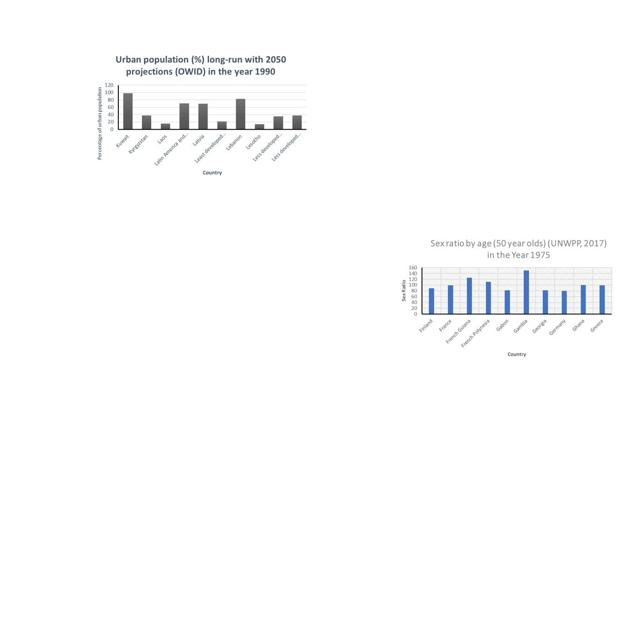Graph: (93, 52, 310, 179), (395, 235, 614, 360)
